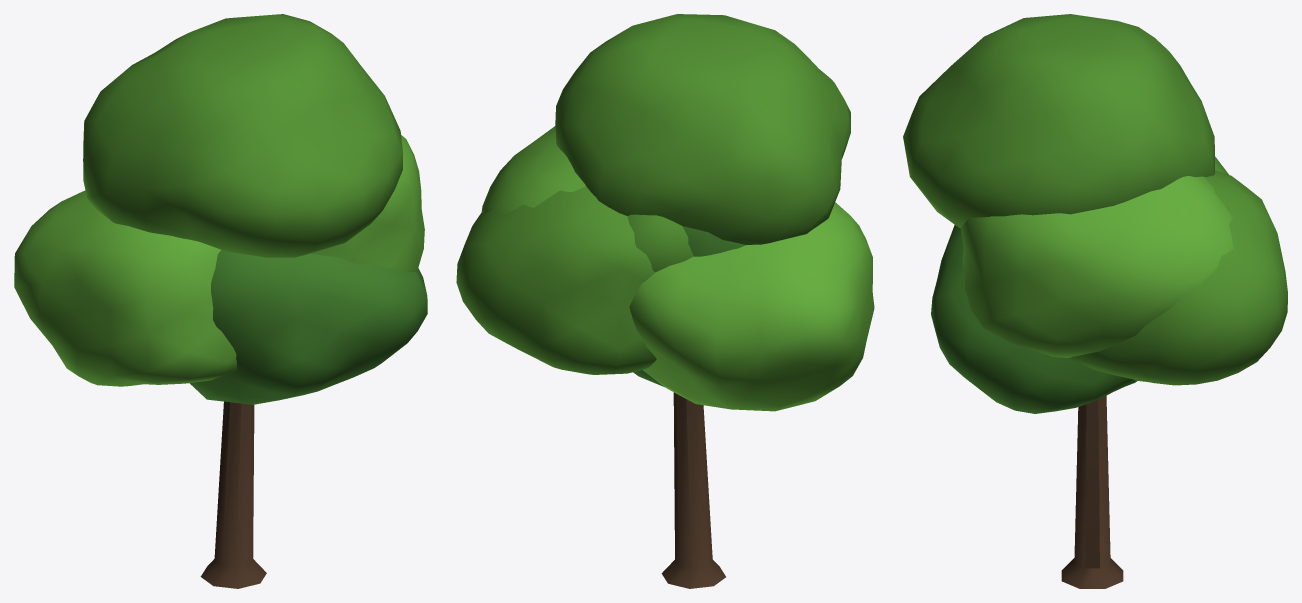
Rendered from tree_a.glb.
3 views of the same model, side by side, from view 1: azimuth 30°, elevation 25°; view 2: azimuth 150°, elevation 25°; view 3: azimuth 270°, elevation 25° (orthographic). The views are drawn at different scales.
Visible parts, largest first — view 1: leaves.003, leaves.001, leaves.002, trunk, leaves.004; view 2: leaves.003, leaves.001, leaves, trunk, leaves.004, leaves.006, leaves.005; view 3: leaves.003, leaves.004, leaves, leaves.002, trunk.
Boxes of the visible parts, left/top/right/bottom form: leaves.003: left=83, top=14, right=402, bottom=257; leaves.001: left=14, top=190, right=237, bottom=386; leaves.002: left=189, top=250, right=427, bottom=404; trunk: left=200, top=401, right=266, bottom=588; leaves.004: left=311, top=135, right=424, bottom=272; leaves.003: left=555, top=14, right=850, bottom=244; leaves.001: left=629, top=202, right=874, bottom=411; leaves: left=456, top=186, right=656, bottom=374; trunk: left=661, top=392, right=725, bottom=588; leaves.004: left=481, top=126, right=585, bottom=215; leaves.006: left=627, top=214, right=693, bottom=272; leaves.005: left=682, top=226, right=745, bottom=256; leaves.003: left=903, top=14, right=1214, bottom=228; leaves.004: left=960, top=176, right=1233, bottom=357; leaves: left=1068, top=170, right=1287, bottom=385; leaves.002: left=931, top=225, right=1136, bottom=413; trunk: left=1061, top=395, right=1123, bottom=588.
Size of the model in its own units: 1.52 by 2.15 by 1.38.
